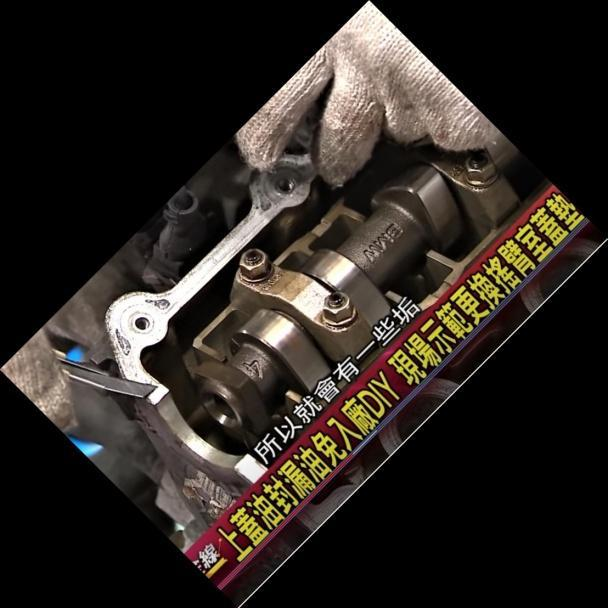hole: (272, 172, 298, 197), (131, 311, 153, 334)
